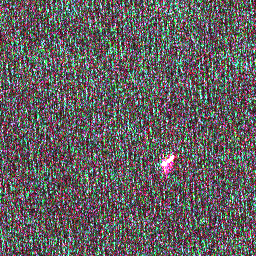ship: (159, 152, 177, 169)
